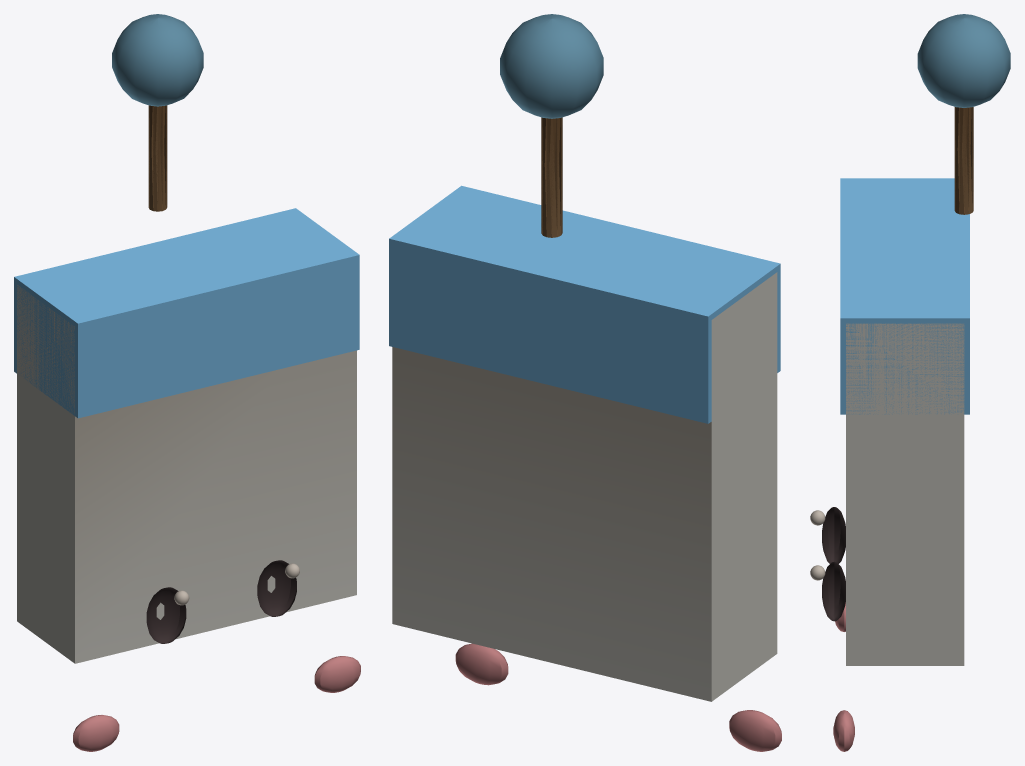
Rendered from pa8dcf30a.glb.
3 views of the same model, side by side, from view 1: azimuth 30°, elevation 25°; view 2: azimuth 150°, elevation 25°; view 3: azimuth 270°, elevation 25° (orthographic). The views are drawn at different scales.
Parts seen in each view (by area): view 1: pet_pa8dcf30a; view 2: pet_pa8dcf30a; view 3: pet_pa8dcf30a.
Part boxes in pixels (x1,y1,x2,y2): pet_pa8dcf30a: [14, 14, 360, 751]; pet_pa8dcf30a: [389, 14, 781, 751]; pet_pa8dcf30a: [810, 14, 1010, 751].
Bounding box in the file's own units: 0.2861 × 0.6264 × 0.1698.
